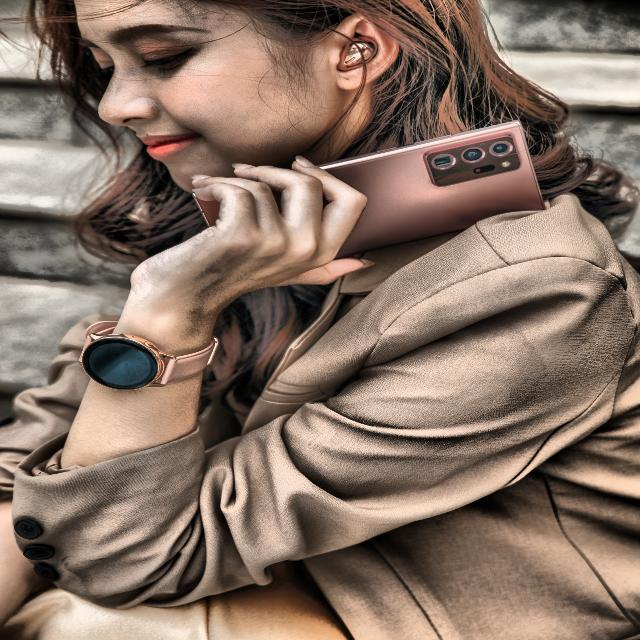Phone: (188, 118, 548, 263)
